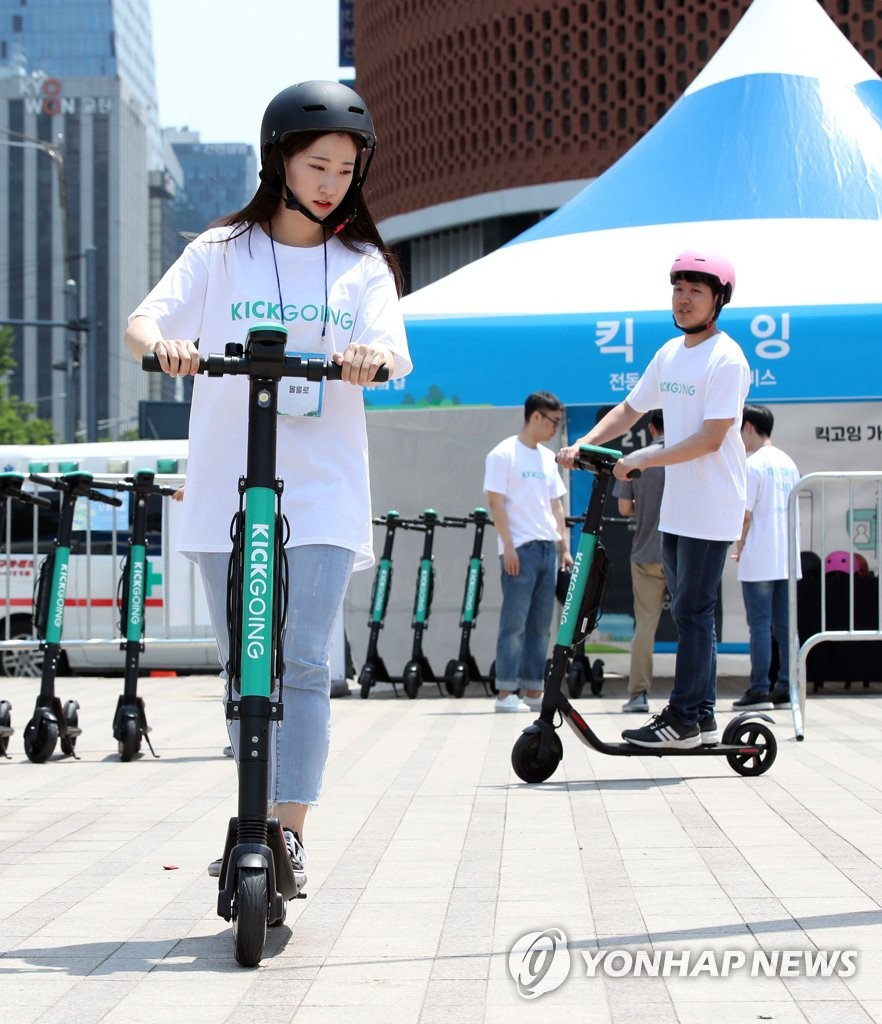scooter: (134, 321, 390, 974), (509, 440, 783, 790)
with helmet: (256, 77, 374, 231), (666, 248, 737, 345)
